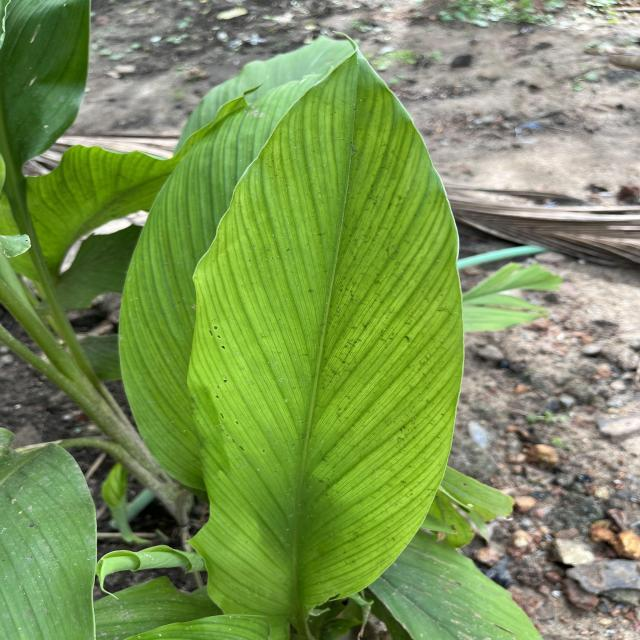Curcuma longa: (175, 21, 472, 632)
